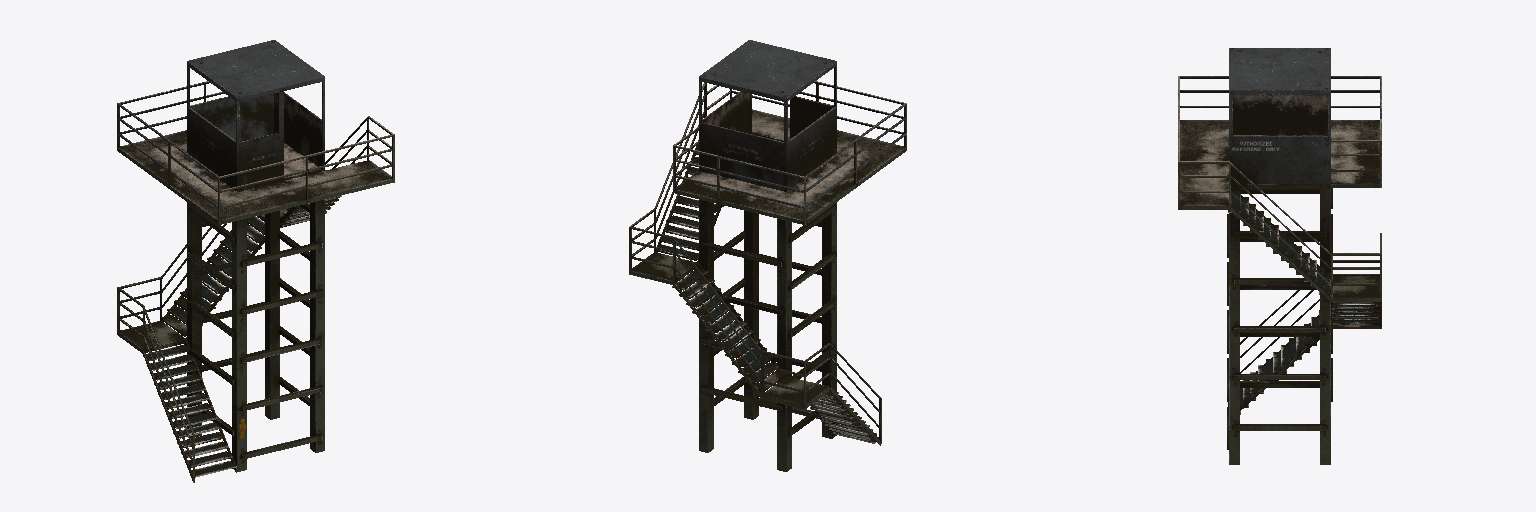
3 views of the same model, side by side, from view 1: azimuth 30°, elevation 25°; view 2: azimuth 150°, elevation 25°; view 3: azimuth 270°, elevation 25° (orthographic).
Parts seen in each view (by area): view 1: scene__0; view 2: scene__0; view 3: scene__0.
Part boxes in pixels (bbox=[...]): scene__0: bbox=[117, 40, 394, 482]; scene__0: bbox=[629, 40, 906, 471]; scene__0: bbox=[1178, 48, 1381, 464].
Size of the model in its own units: 148 by 300 by 148.
Materials: 1 (1 with a texture image).